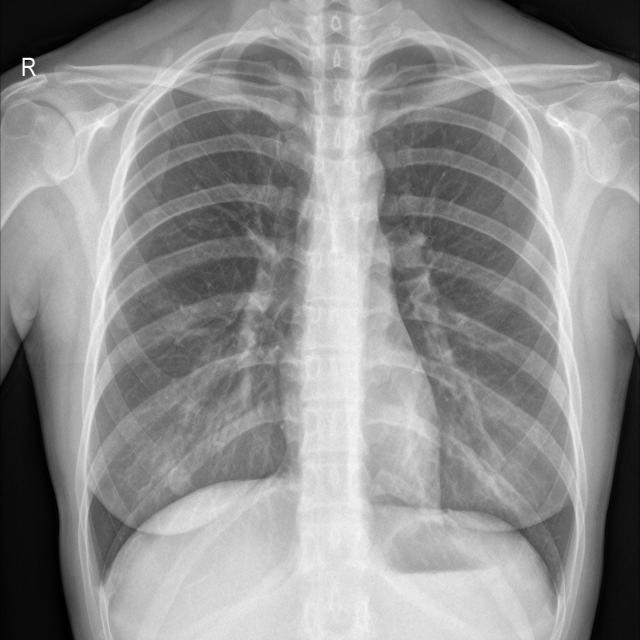no-pneumonia: (89, 43, 313, 576), (369, 46, 572, 584)
